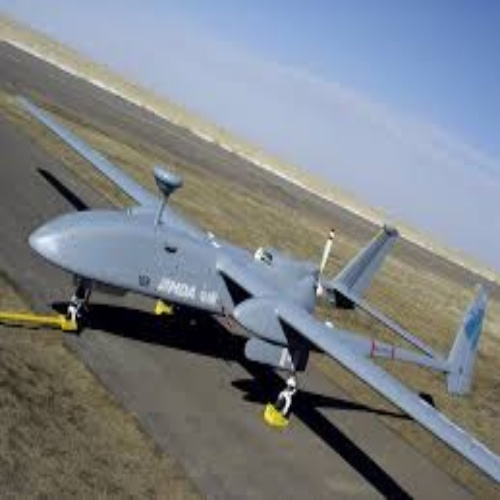uav: (13, 85, 500, 482)
